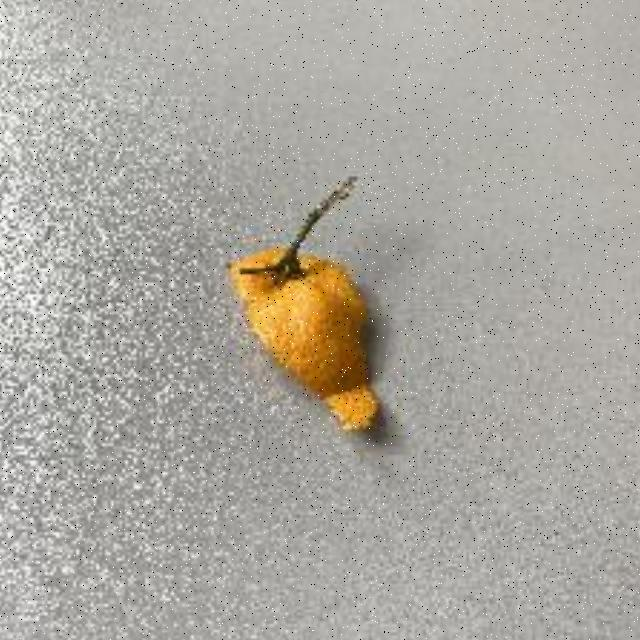orange-peel: (225, 242, 384, 434)
